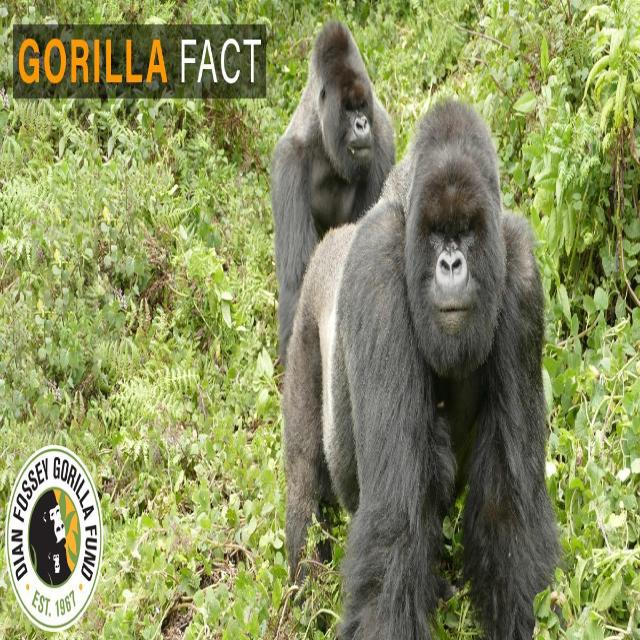Gorilla: (278, 76, 560, 636), (264, 13, 400, 358)
